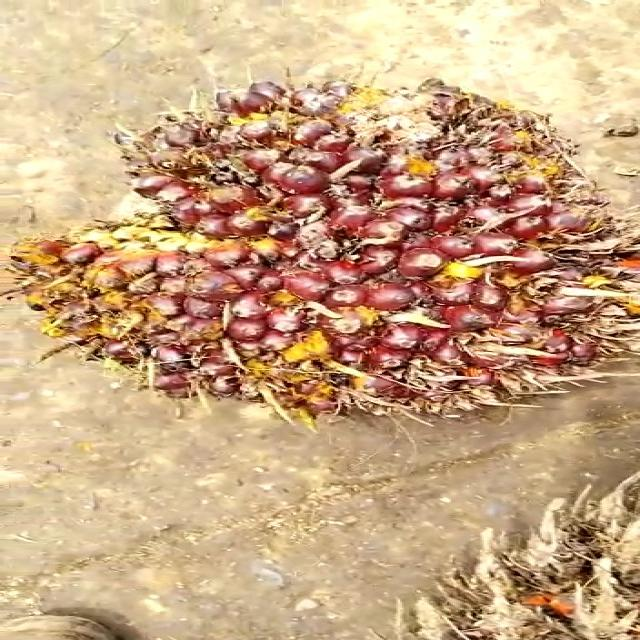palm oil: (9, 78, 640, 432)
